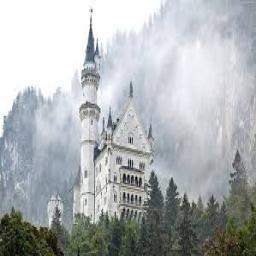Low smoke: (25, 0, 256, 220)
